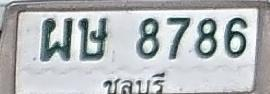6: (224, 16, 248, 58)
7: (166, 16, 190, 60)
8: (136, 17, 160, 59), (194, 17, 217, 58)
A28: (40, 17, 73, 61)
A39: (78, 16, 108, 60)
CBI: (98, 71, 172, 94)
